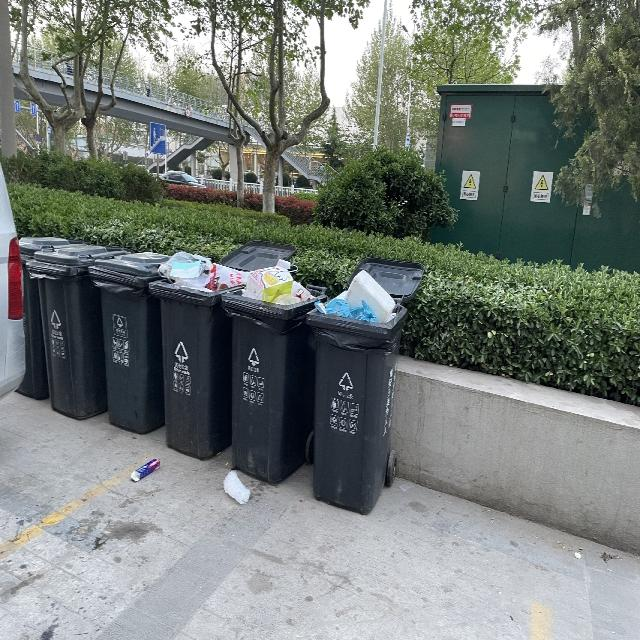garbage: (222, 471, 249, 505), (129, 458, 159, 481)
garbage_bin: (28, 244, 130, 419), (86, 250, 170, 434), (14, 233, 67, 399)
overflow: (306, 270, 407, 516), (222, 258, 326, 483), (149, 249, 246, 460)
